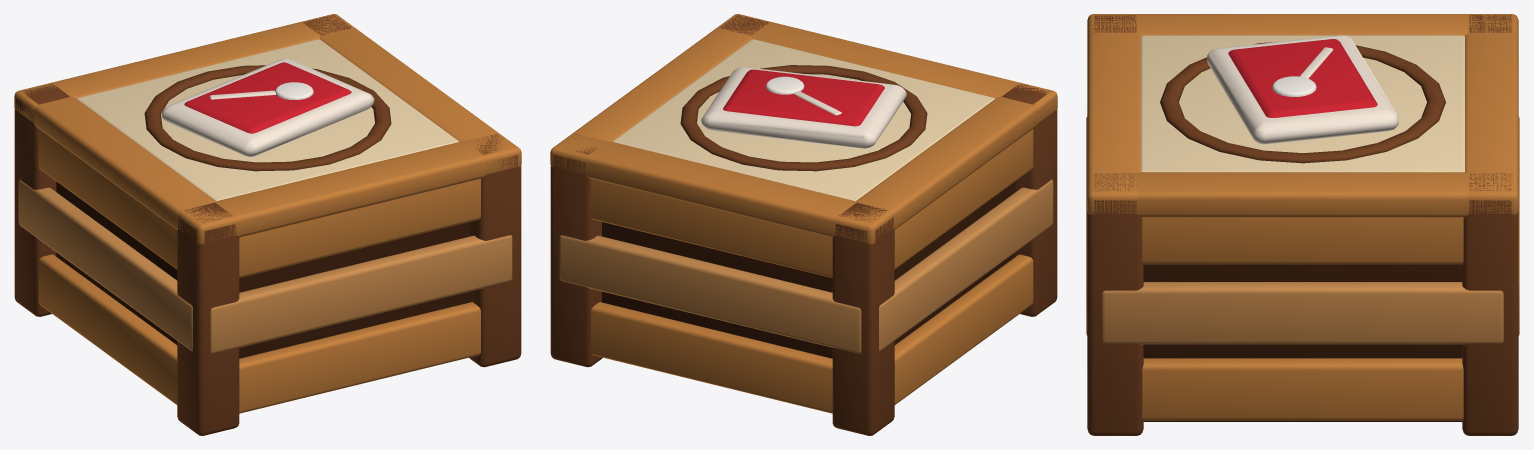
Rendered from crate_steak.gltf.
The picture shows the model from 3 angles, left to right: view 1: azimuth 30°, elevation 25°; view 2: azimuth 150°, elevation 25°; view 3: azimuth 270°, elevation 25°; orthographic projection. The views are drawn at different scales.
Parts seen in each view (by area): view 1: CrateShadowCore; view 2: CrateShadowCore; view 3: CrateShadowCore.
Part boxes in pixels (bbox=[...]): CrateShadowCore: bbox=[14, 14, 521, 435]; CrateShadowCore: bbox=[550, 14, 1057, 435]; CrateShadowCore: bbox=[1086, 14, 1519, 435].
Bounding box in the file's own units: 1.01 × 0.705 × 1.01.
